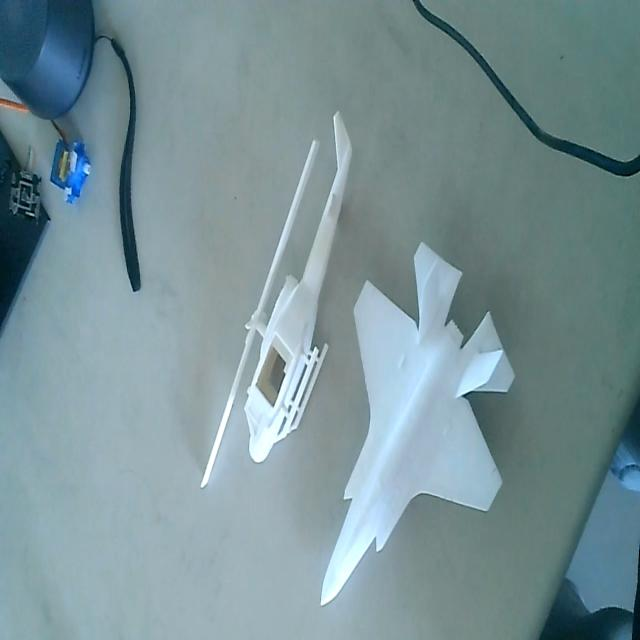Helicopter: (200, 111, 354, 478)
Jet: (317, 236, 517, 617)
